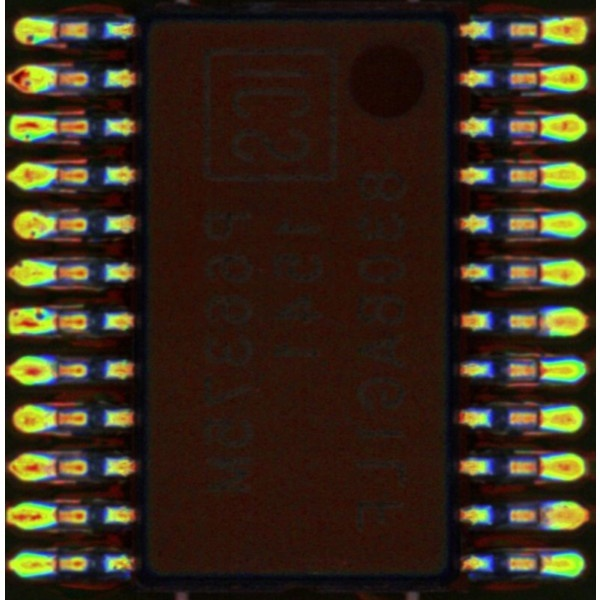Bad_podu: (528, 264, 558, 279), (39, 462, 74, 474), (529, 461, 559, 474), (529, 557, 560, 569), (528, 168, 556, 181), (528, 71, 556, 84), (528, 365, 560, 376), (43, 559, 75, 569)
